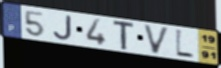4: (85, 18, 109, 48)
5: (23, 10, 47, 38)
J: (52, 15, 74, 42)
L: (174, 27, 195, 60)
T: (112, 20, 136, 51)
V: (142, 23, 172, 56)
